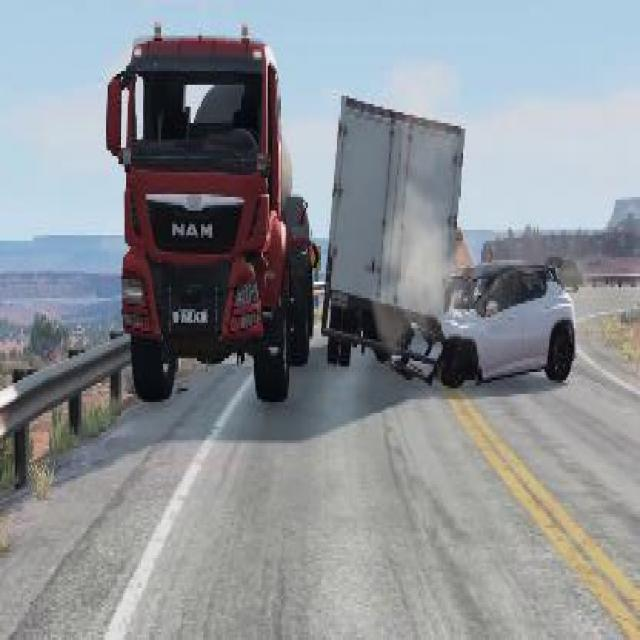accident: (322, 90, 584, 410)
